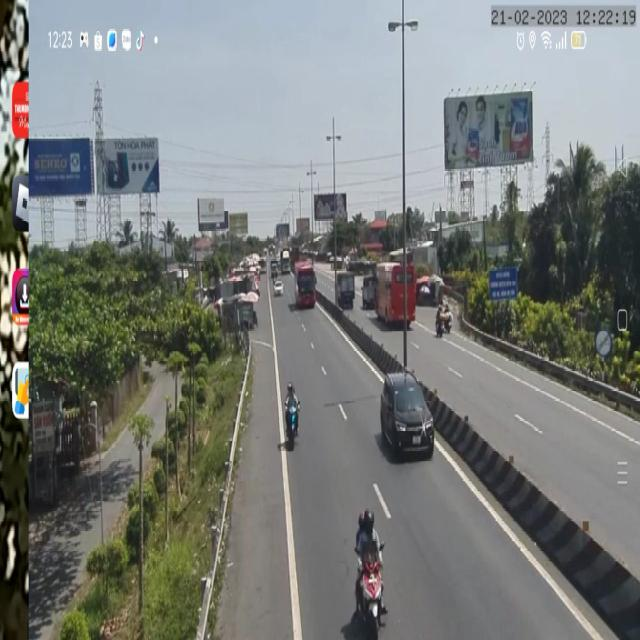bus: (374, 263, 418, 328), (294, 260, 316, 310)
car: (380, 371, 434, 460), (273, 282, 284, 294)
motorbike: (352, 509, 388, 640), (284, 383, 300, 450), (435, 304, 445, 338), (445, 302, 453, 331)
truck: (335, 268, 355, 312), (361, 278, 379, 314)
